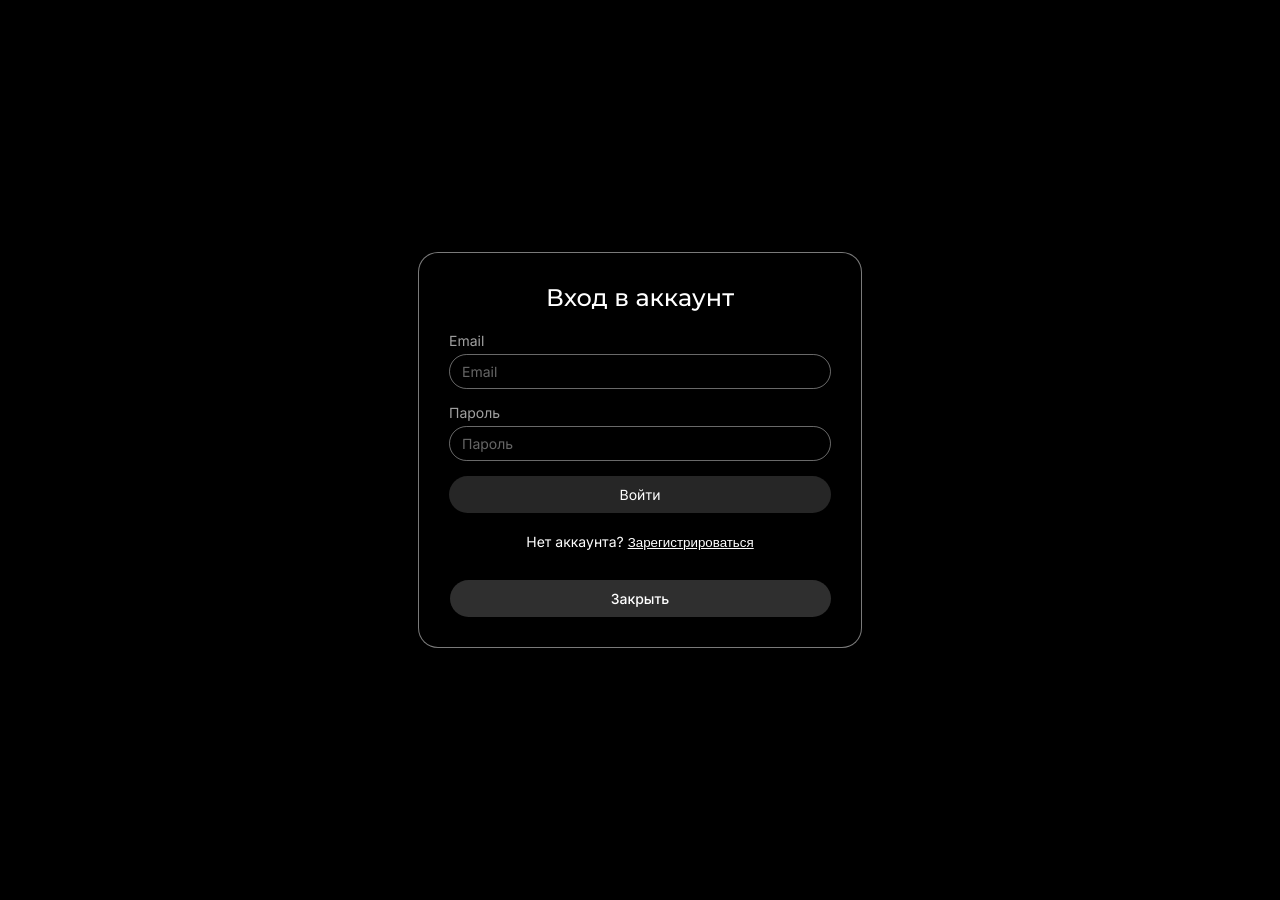
Test: AuthModal › 3. Валидация: пароли не совпадают
Step 1. Click the button "Зарегистрироваться" → click(691, 542), box [628, 535, 754, 550]
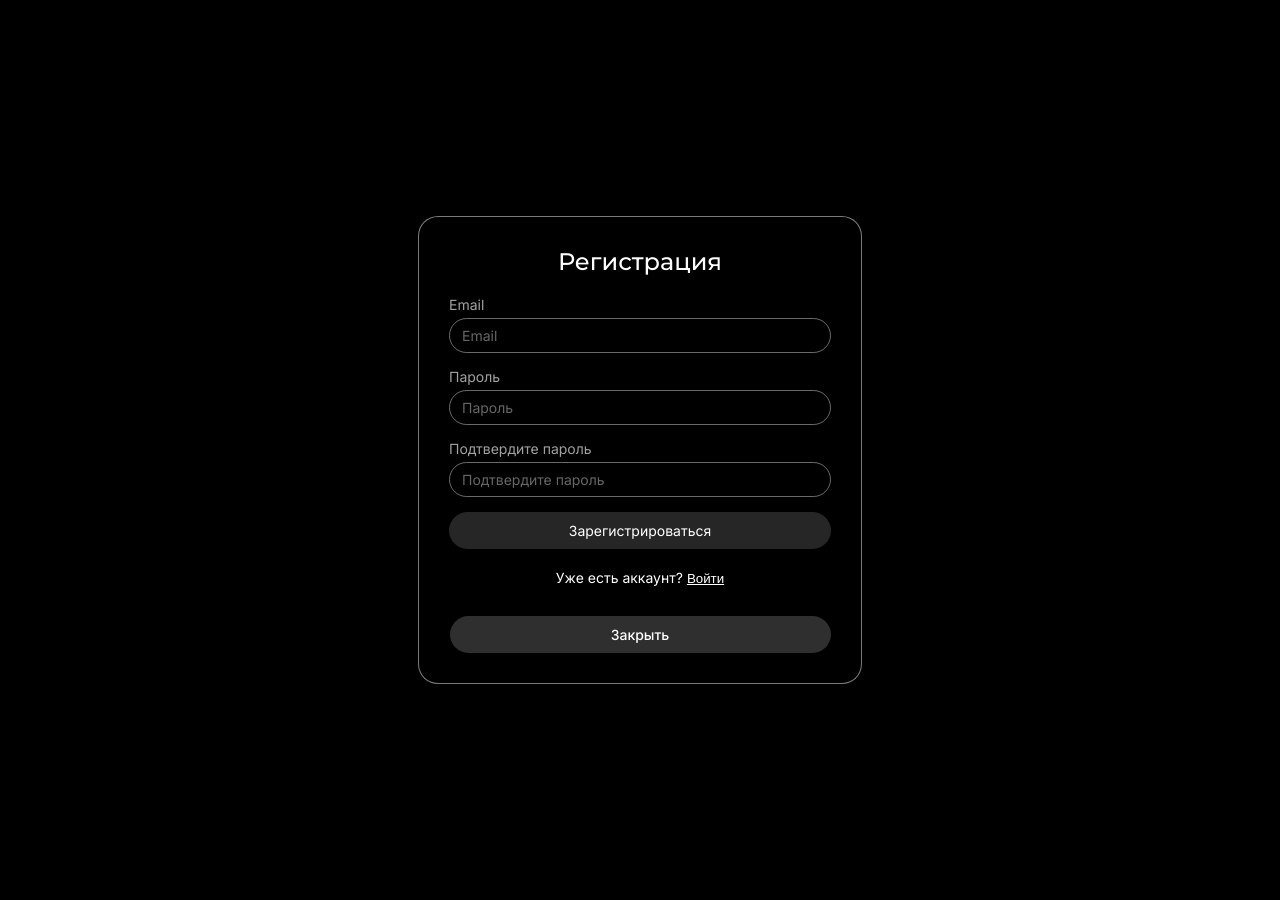
Step 2. Type "test@example.com" into the field with placeholder "Email" → (640, 336), box [449, 318, 831, 353]
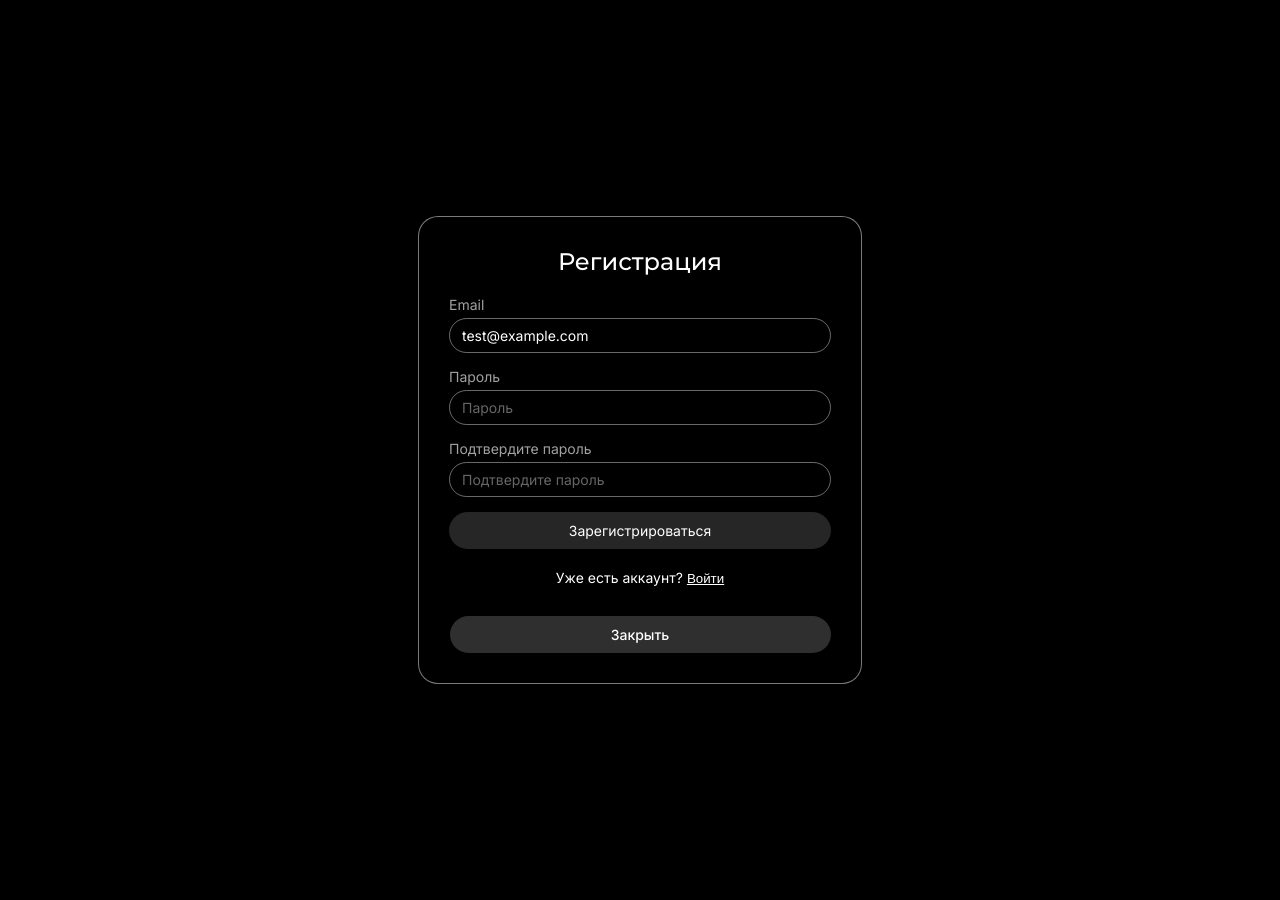
Step 3. Type "123" into the password field with placeholder "Пароль" → (640, 408), box [449, 390, 831, 425]
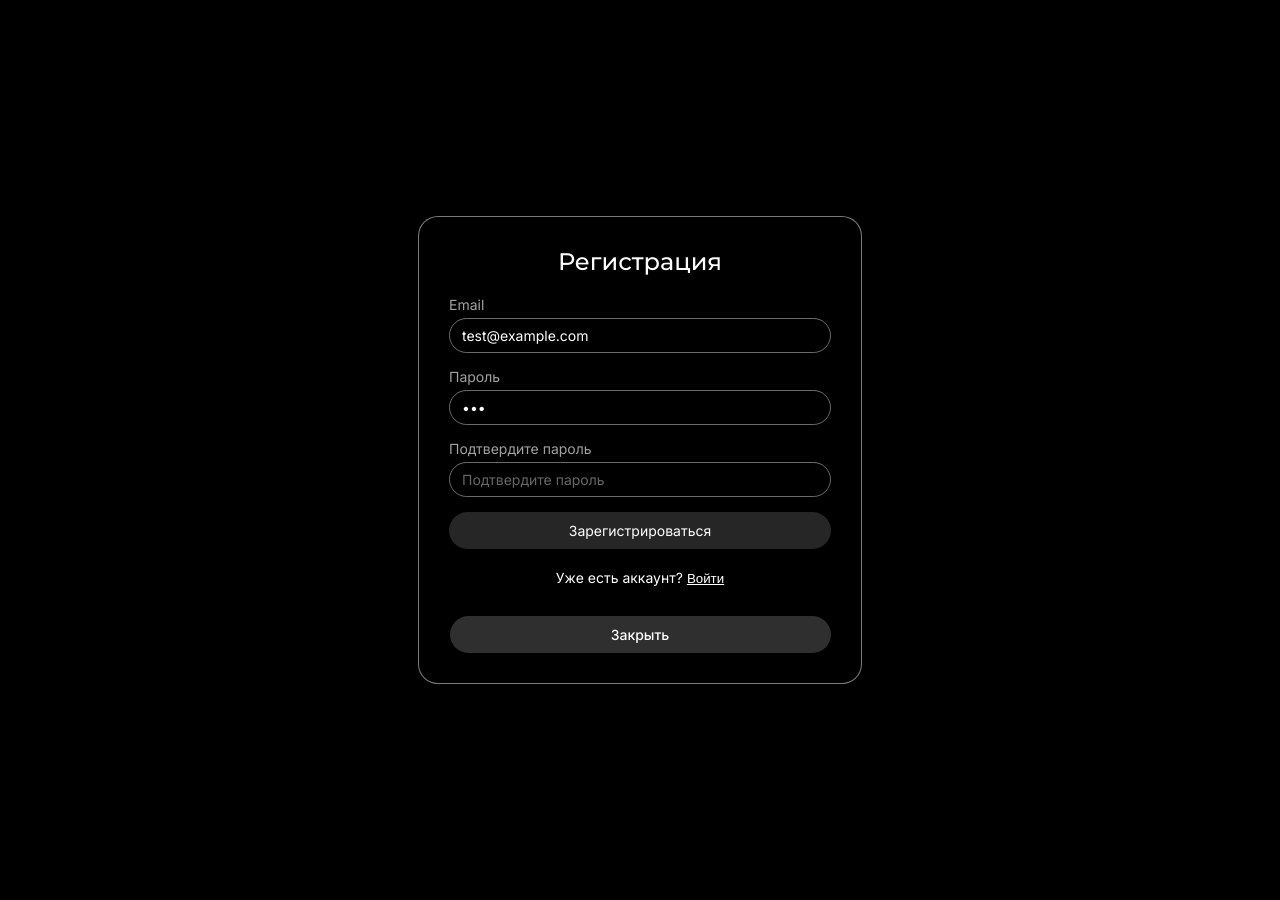
Step 4. Type "456" into the password field with placeholder "Подтвердите пароль" → (640, 480), box [449, 462, 831, 497]
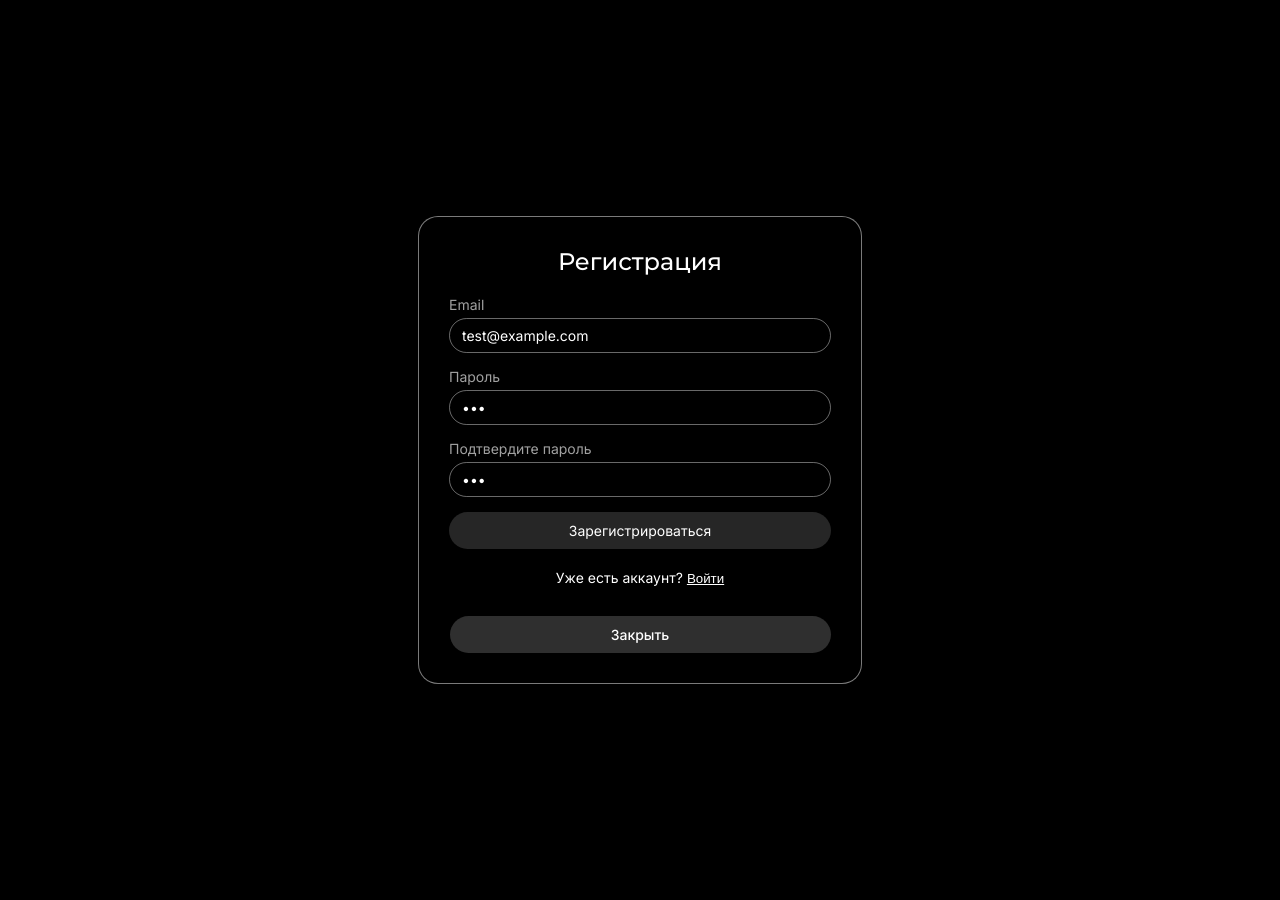
Step 5. Click the button "Зарегистрироваться" → click(640, 530), box [449, 512, 831, 549]
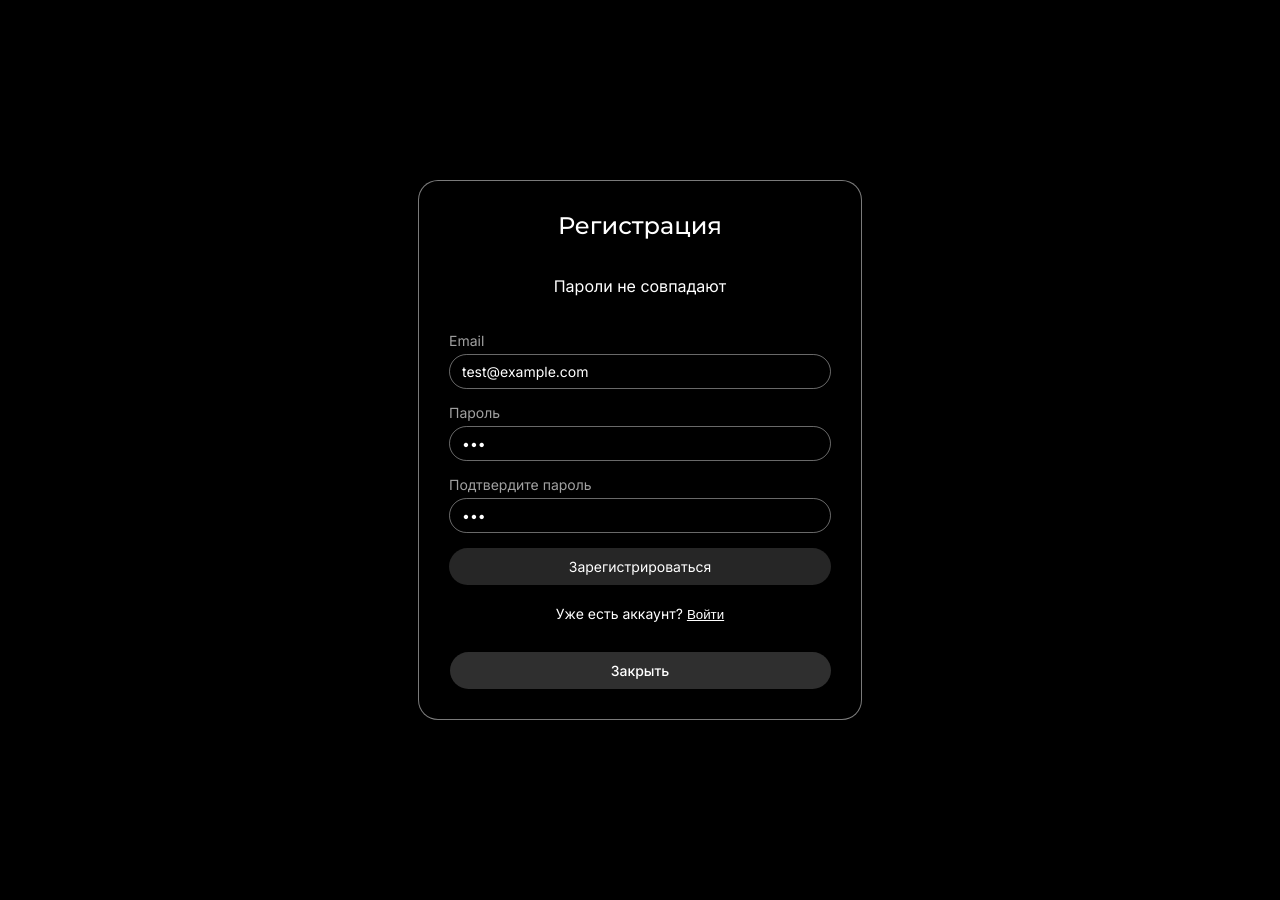
Check: the text "Пароли не совпадают" is shown, box [554, 276, 726, 296]
